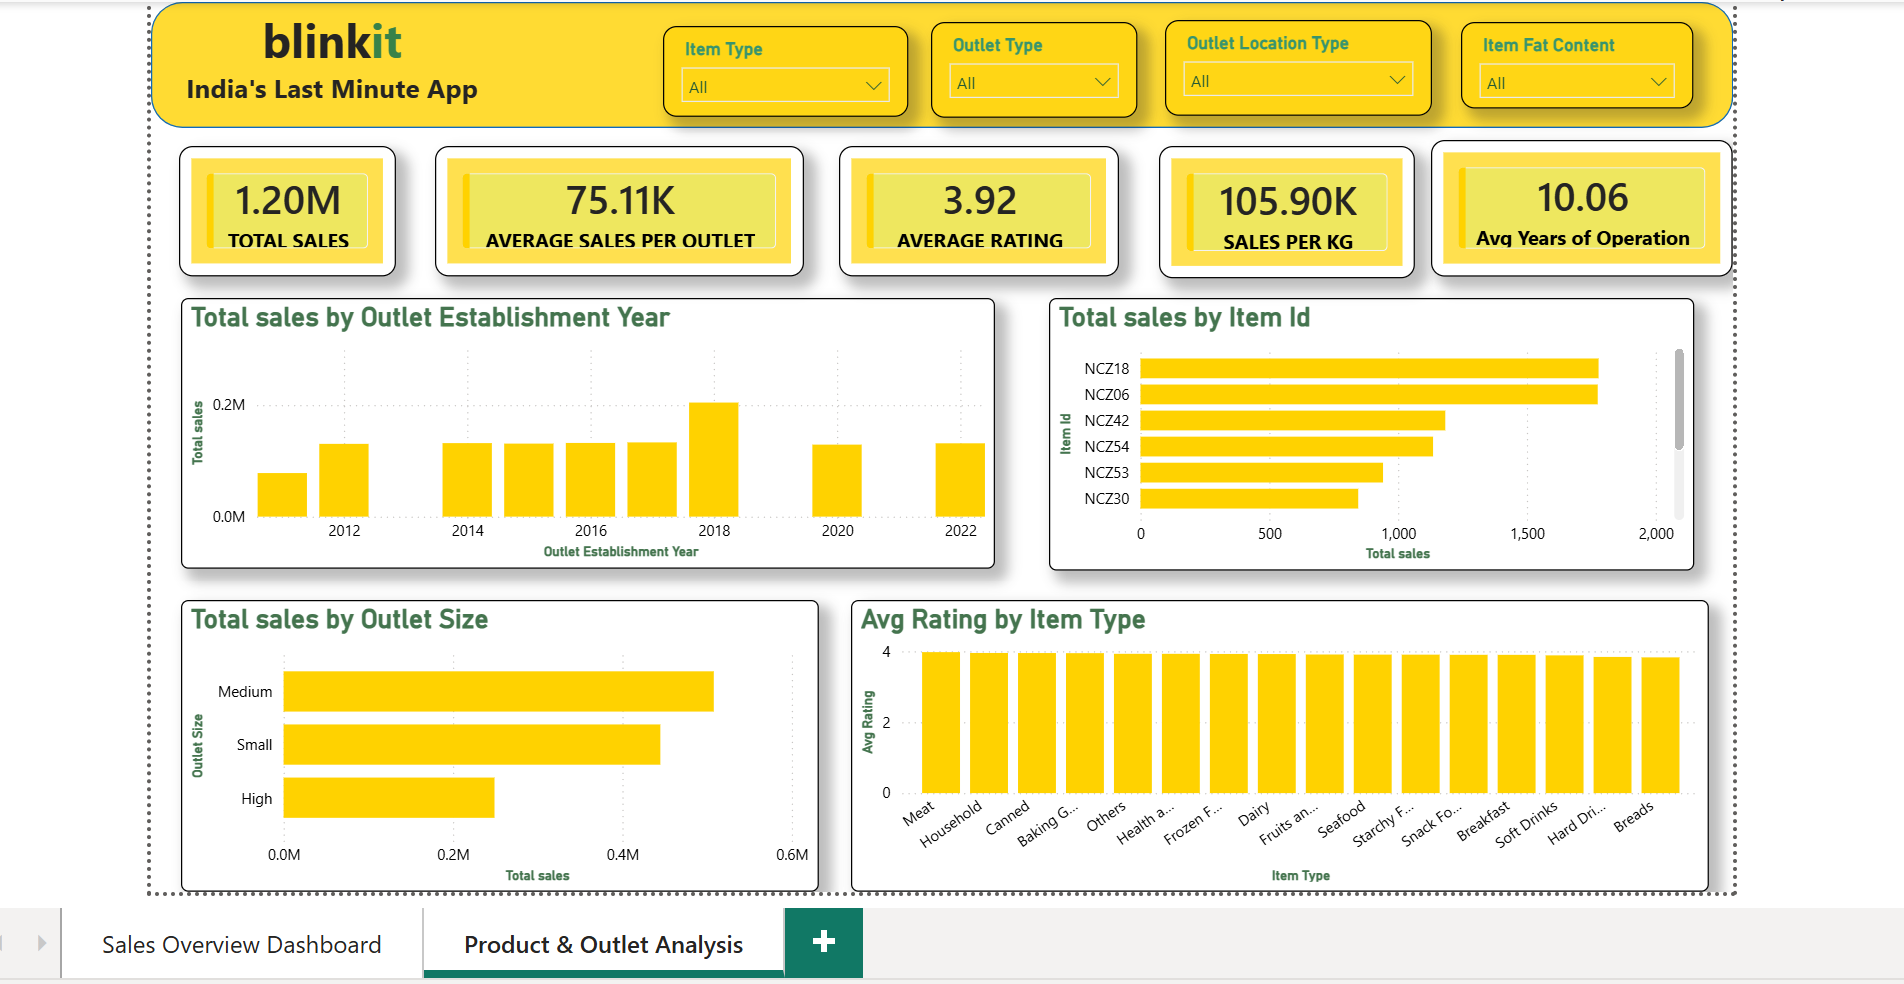

What the dashboard file says about the page in this screenshot:
{"tool":"powerbi","page":{"name":"Product & Outlet Analysis","canvas":[1280,720],"ordinal":1},"visuals":[{"type":"clusteredBarChart","fields":{"Category":["BlinkIT Grocery Data.Item Id"],"Y":["BlinkIT Grocery Data.Total sales"]},"box":[726.7,239.9,521.8,220.6],"z":0},{"type":"columnChart","fields":{"Category":["Outlet Info.Outlet Establishment Year"],"Y":["BlinkIT Grocery Data.Total sales"]},"box":[24.5,239.9,658.4,218.9],"z":1000},{"type":"columnChart","fields":{"Category":["Items.Item Type"],"Y":["BlinkIT Grocery Data.Avg Rating"]},"box":[566.3,483.8,694.1,236.2],"z":2000},{"type":"clusteredBarChart","fields":{"Y":["BlinkIT Grocery Data.Total sales"],"Category":["Outlet Info.Outlet Size"]},"box":[24.3,483.8,516.1,236.2],"z":3000},{"type":"shape","box":[0,0,1280,101.8],"z":4000},{"type":"textbox","box":[0,0,293.2,114.1],"z":5000},{"type":"cardVisual","title":"Total sales","fields":{"Data":["BlinkIT Grocery Data.Total sales"]},"box":[22.8,115.9,175.6,105.3],"z":6000},{"type":"cardVisual","fields":{"Data":["BlinkIT Grocery Data.Avg sales per outlet"]},"box":[230,115.9,298.5,105.3],"z":7000},{"type":"cardVisual","fields":{"Data":["BlinkIT Grocery Data.Avg Rating"]},"box":[556.6,115.9,226.5,105.3],"z":8000},{"type":"slicer","fields":{"Values":["Items.Item Type"]},"box":[414.4,19.3,198.4,73.7],"z":9000},{"type":"slicer","fields":{"Values":["Outlet Info.Outlet Type"]},"box":[630.3,15.8,166.8,77.3],"z":10000},{"type":"slicer","fields":{"Values":["Outlet Location.Outlet Location Type"]},"box":[820,14,216,77.3],"z":11000},{"type":"slicer","fields":{"Values":["Items Content.Item Fat Content"]},"box":[1060.5,15.8,187.9,70.2],"z":12000},{"type":"cardVisual","fields":{"Data":["Sum(BlinkIT Grocery Data.Sales per Kg)"]},"box":[814.7,115.9,207.2,107.1],"z":13000},{"type":"cardVisual","fields":{"Data":["Outlet Info.Avg Years of Operation"]},"box":[1035.9,112.4,244.1,110.6],"z":14000}]}

Visuals, with their boxes on the page's 1280x720 design canvas (x1, y1, x2, y2). These are canvas units, not pixel positions in the 1904x984 screenshot, which may show the page scaled, cropped or inside an application window:
clusteredBarChart - BlinkIT Grocery Data.Item Id x BlinkIT Grocery Data.Total sales: 727/240/1248/460
columnChart - Outlet Info.Outlet Establishment Year x BlinkIT Grocery Data.Total sales: 24/240/683/459
columnChart - Items.Item Type x BlinkIT Grocery Data.Avg Rating: 566/484/1260/720
clusteredBarChart - BlinkIT Grocery Data.Total sales x Outlet Info.Outlet Size: 24/484/540/720
shape: 0/0/1280/102
textbox: 0/0/293/114
"Total sales" cardVisual: 23/116/198/221
cardVisual - BlinkIT Grocery Data.Avg sales per outlet: 230/116/528/221
cardVisual - BlinkIT Grocery Data.Avg Rating: 557/116/783/221
slicer - Items.Item Type: 414/19/613/93
slicer - Outlet Info.Outlet Type: 630/16/797/93
slicer - Outlet Location.Outlet Location Type: 820/14/1036/91
slicer - Items Content.Item Fat Content: 1060/16/1248/86
cardVisual - Sum(BlinkIT Grocery Data.Sales per Kg): 815/116/1022/223
cardVisual - Outlet Info.Avg Years of Operation: 1036/112/1280/223
